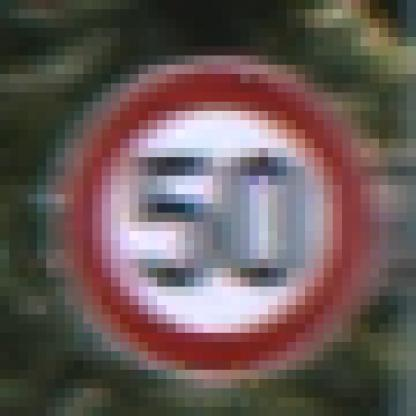Speed Limit 50: (69, 72, 358, 366)
